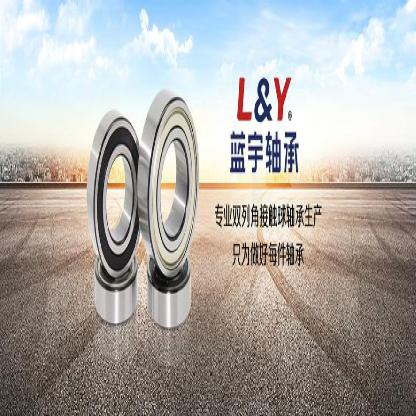FOD: (135, 85, 201, 288), (84, 104, 142, 276), (144, 243, 194, 327), (91, 248, 138, 326)
